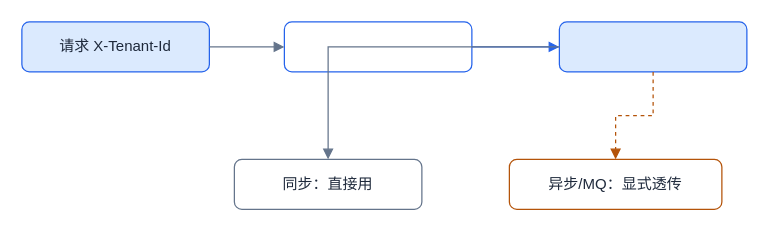
Some shapes in this 769 by 231 pixel diagram are drawn without their labels. The shapes that lost their labels are listed below. From the top down, each one's centre as x and y in pixels, then its label:
At (x=377, y=46): "TenantFilter 注入".
At (x=652, y=46): "TenantContext".
